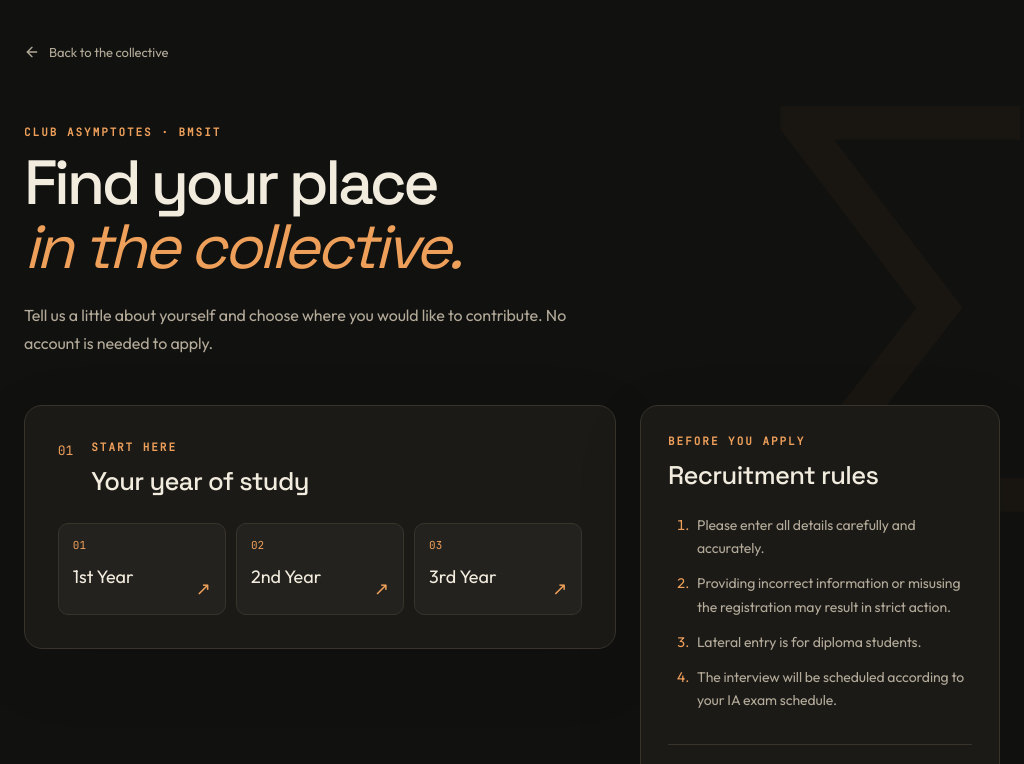
Test: recruitment form › keeps only the first ten digits in the phone field
Click the button "01 1st Year ↗". click: x=142, y=569
box: [58,523,226,615]
(page scrolled)
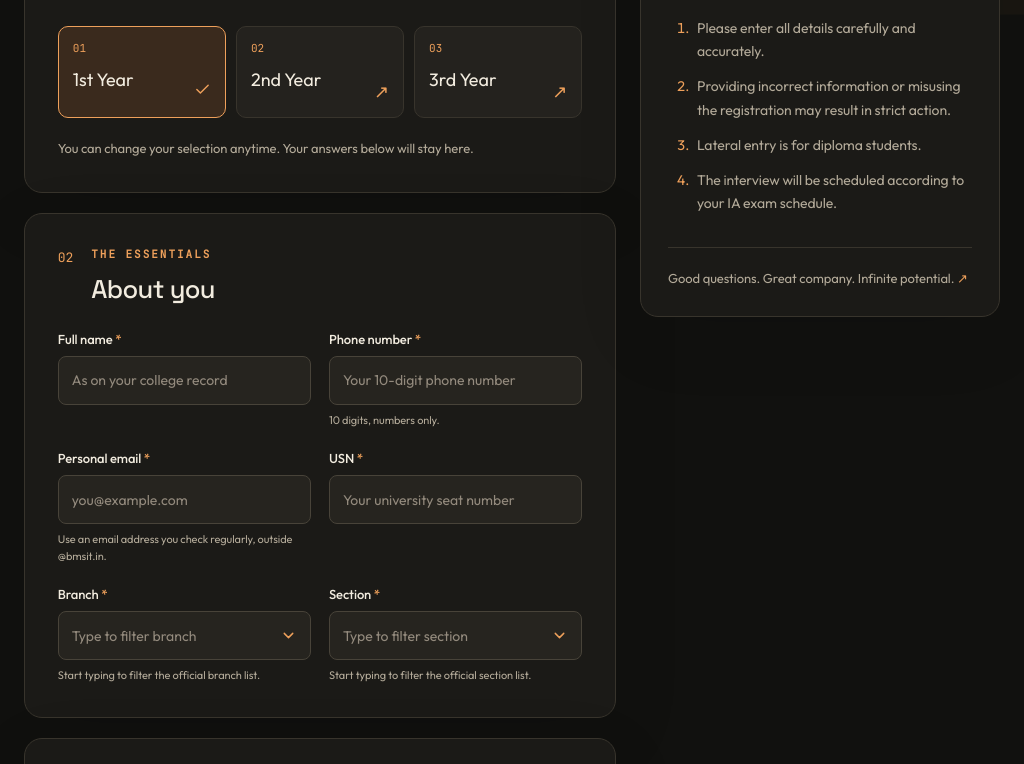
Type "ab98765cd43210" into the field labelled "Phone number *". click: x=456, y=380
box: [329,356,582,405]
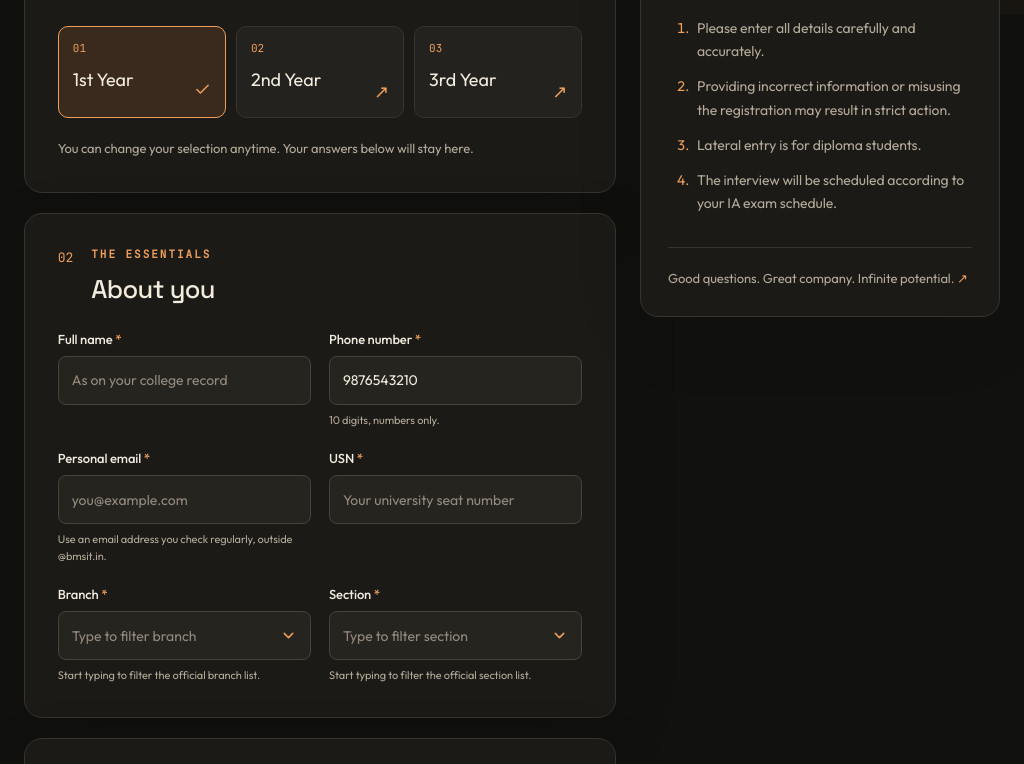
Expected: the field labelled "Phone number *" holds "9876543210"
Replace the text in the field labelled "Phone number *" with "12345678901". click: x=456, y=380
box: [329,356,582,405]
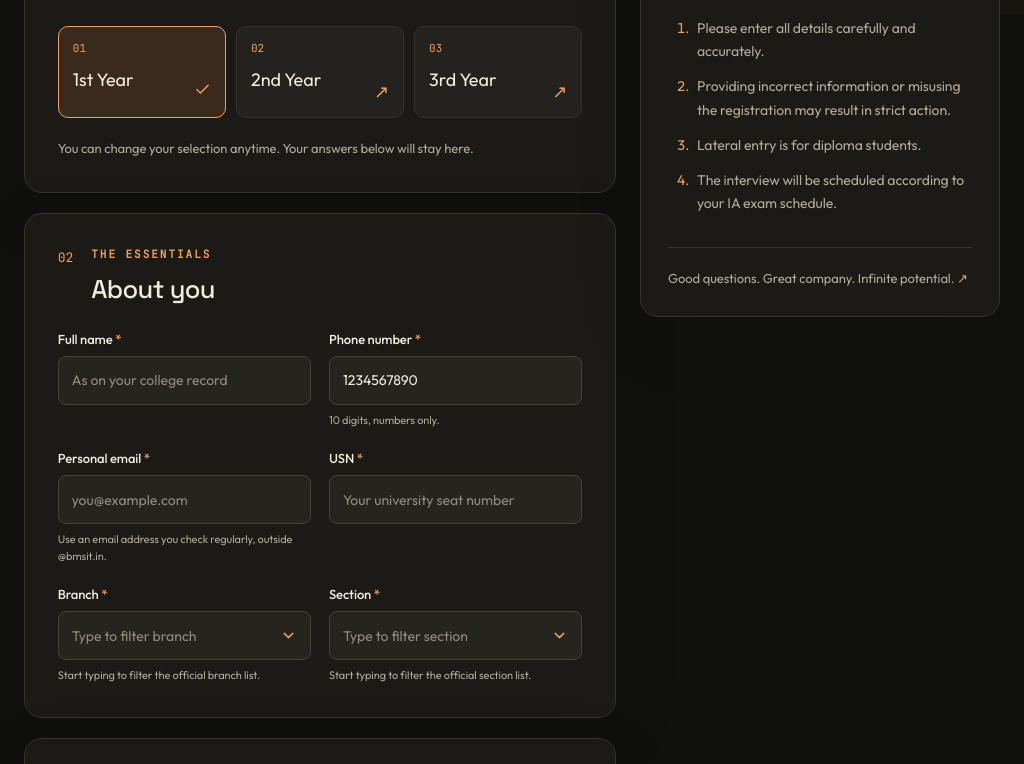
Expected: the field labelled "Phone number *" holds "1234567890"
Replace the text in the field labelled "Phone number *" with "letters". click: x=456, y=380
box: [329,356,582,405]
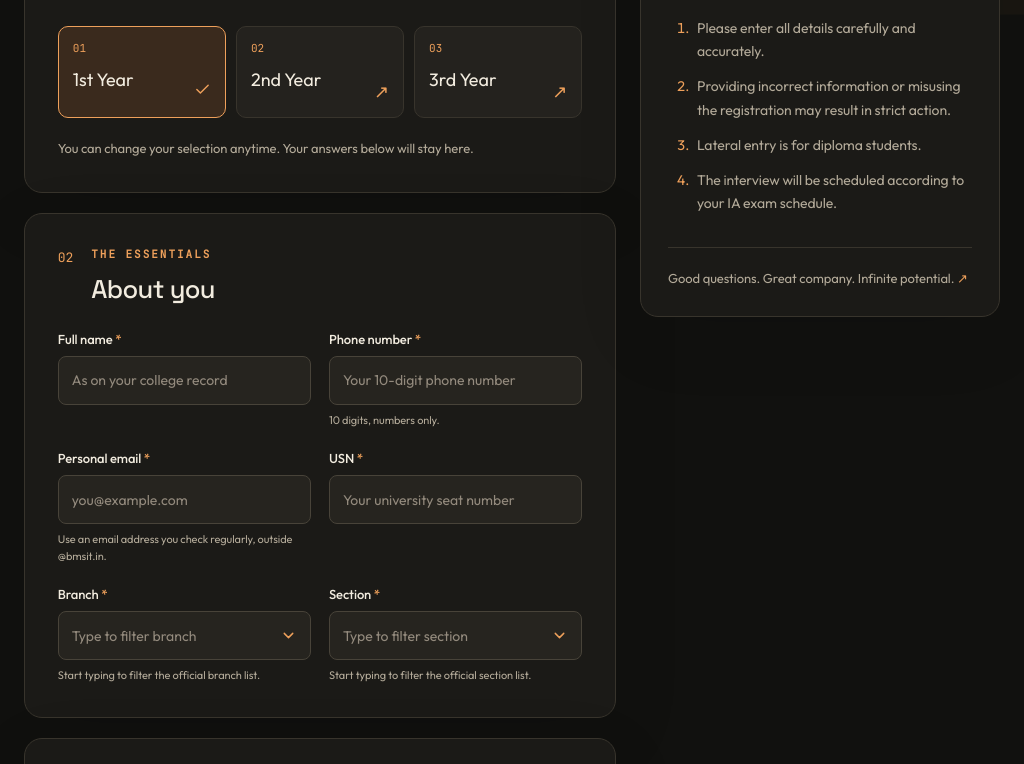
Expected: the field labelled "Phone number *" is empty
Type "9x876543210" into the field labelled "Phone number *". click: x=456, y=380
box: [329,356,582,405]
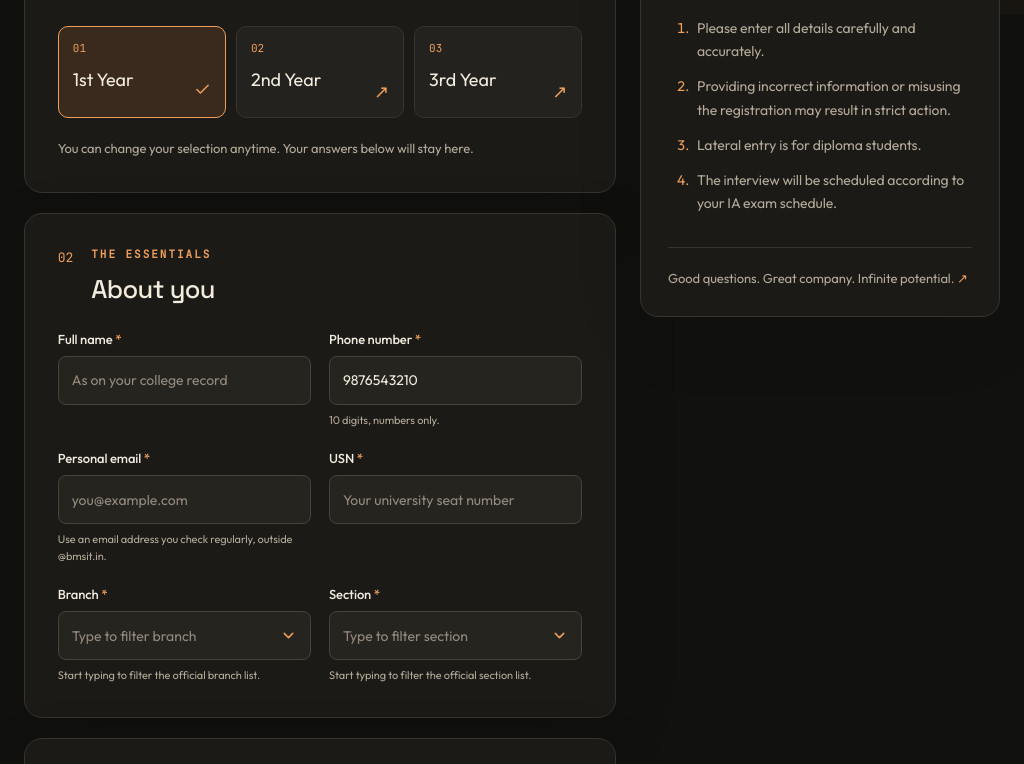
Expected: the field labelled "Phone number *" holds "9876543210", [329,356,582,405]
